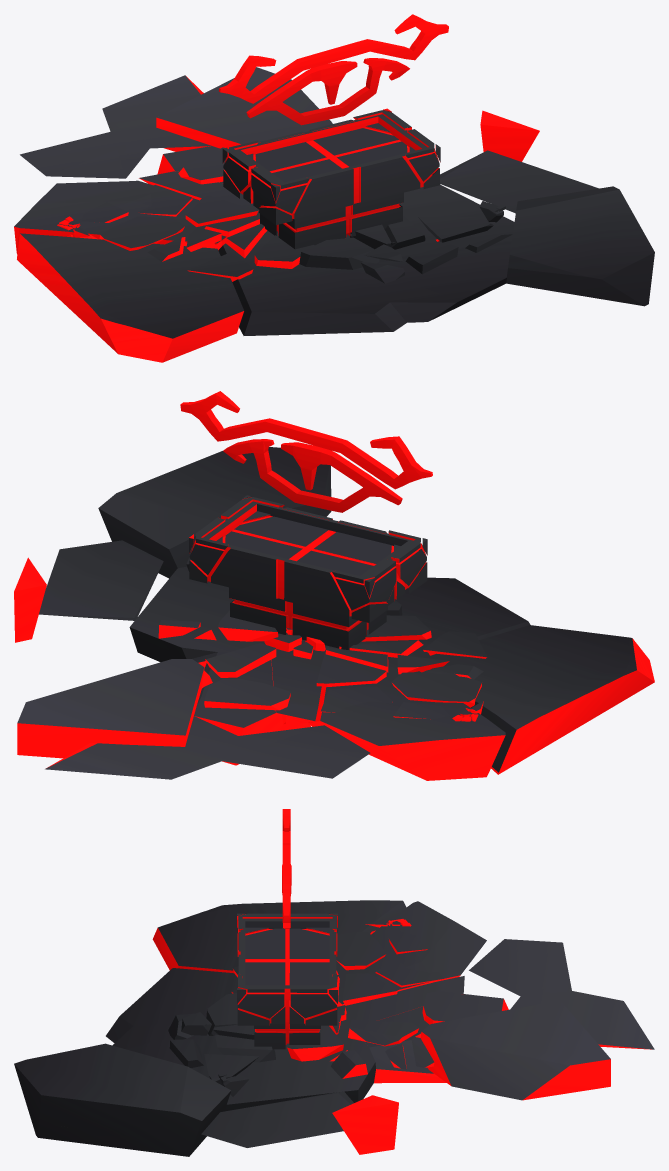
The model's file is ojo_sauron.fbx.
3 views of the same model, one above another, from view 1: azimuth 30°, elevation 25°; view 2: azimuth 150°, elevation 25°; view 3: azimuth 270°, elevation 25° (orthographic). The views are drawn at different scales.
Parts seen in each view (by area): view 1: Ojo_Sauron-; view 2: Ojo_Sauron-; view 3: Ojo_Sauron-.
Part boxes in pixels (bbox=[...]): Ojo_Sauron-: bbox=[14, 14, 654, 362]; Ojo_Sauron-: bbox=[14, 391, 654, 780]; Ojo_Sauron-: bbox=[14, 809, 654, 1156].
Bounding box in the file's own units: 208 × 84.39 × 237.
